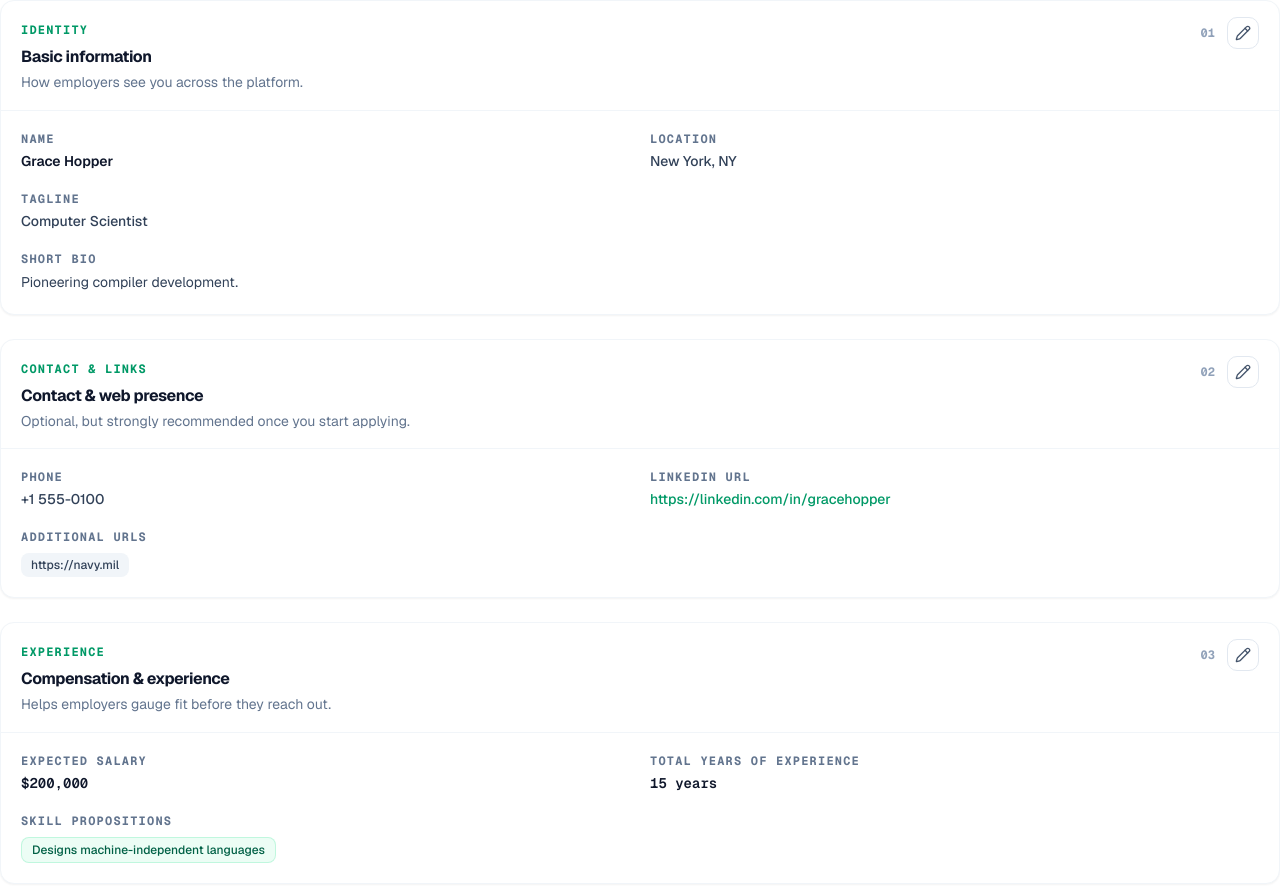
Test: TalentProfileForm › cancels contact information editing without persisting changes
Click the button named "edit contact information" at x=1243, y=372, box x1=1227 y1=356 x2=1259 y2=388
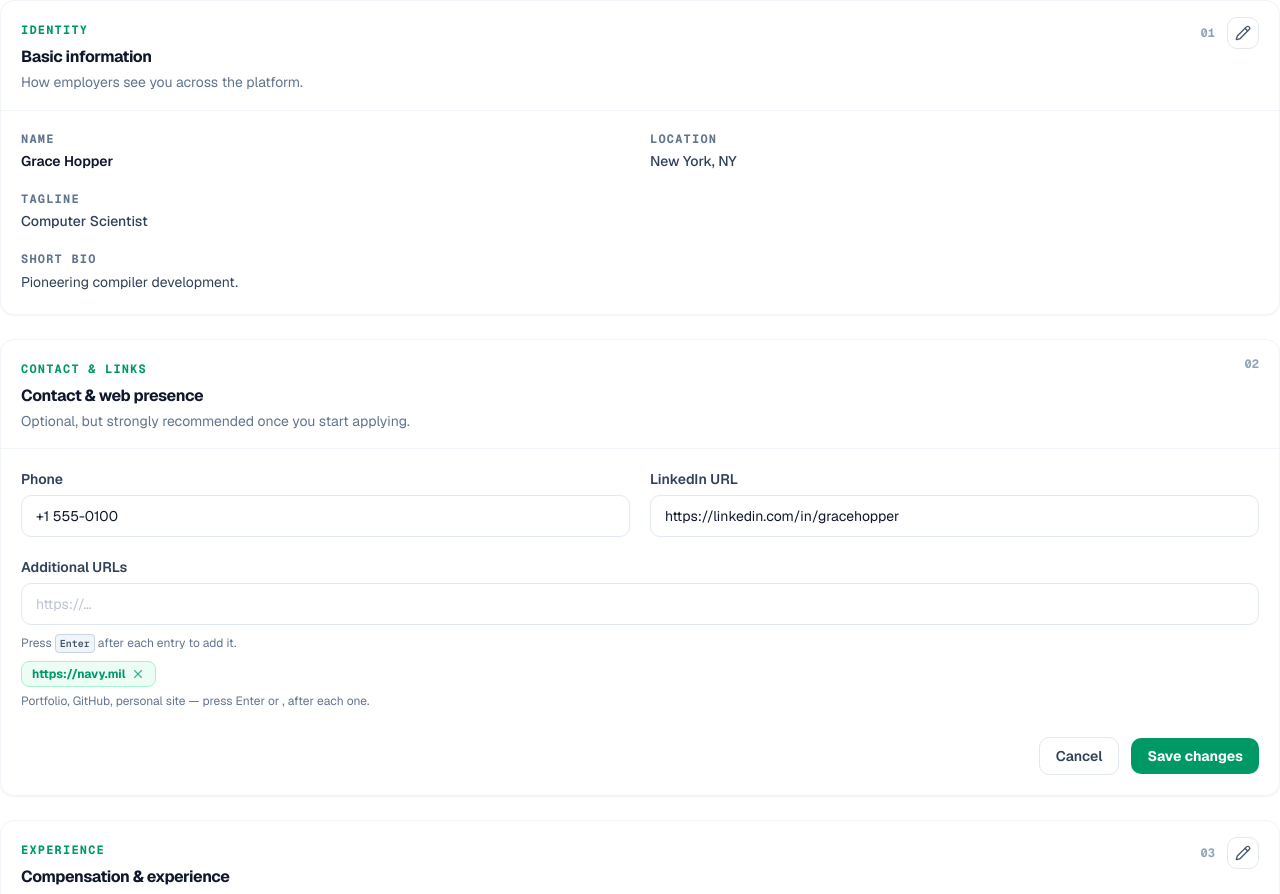
Replace the text in the field labelled "Phone" with "+1 555-9999" at x=326, y=516, box x1=21 y1=495 x2=630 y2=537
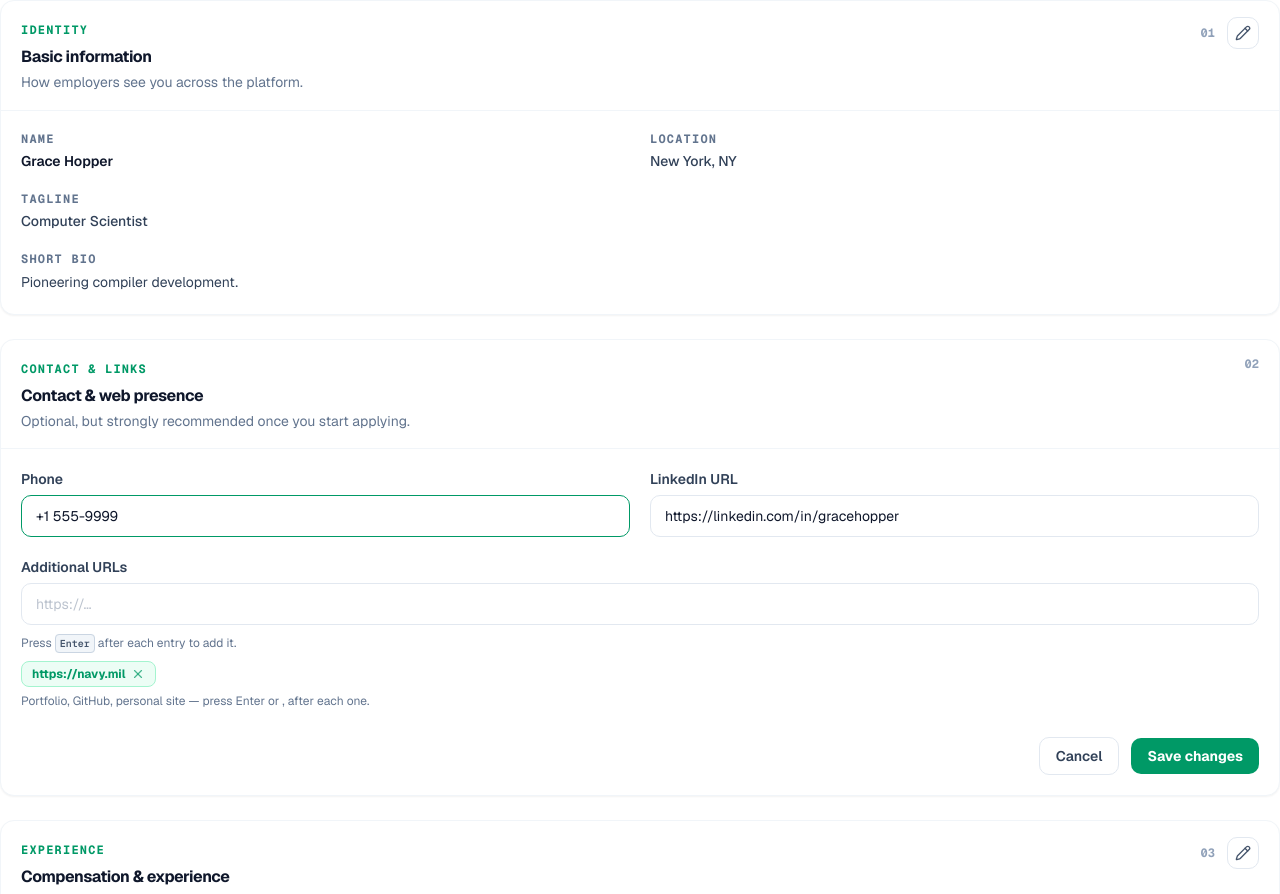
Click the button "Cancel" at x=1079, y=756, box x1=1039 y1=737 x2=1119 y2=775
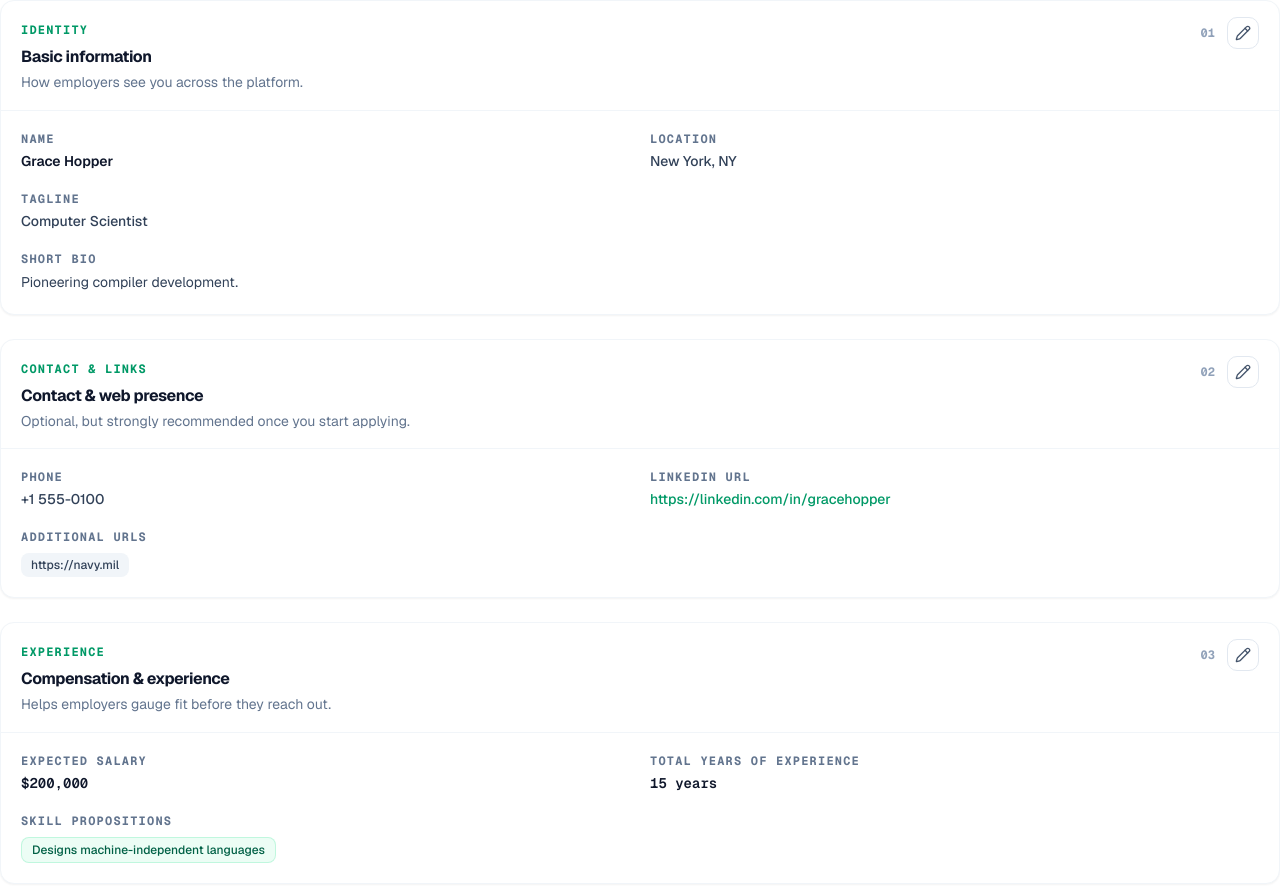
Expected: the text "+1 555-0100" is shown, x1=21 y1=490 x2=104 y2=508
